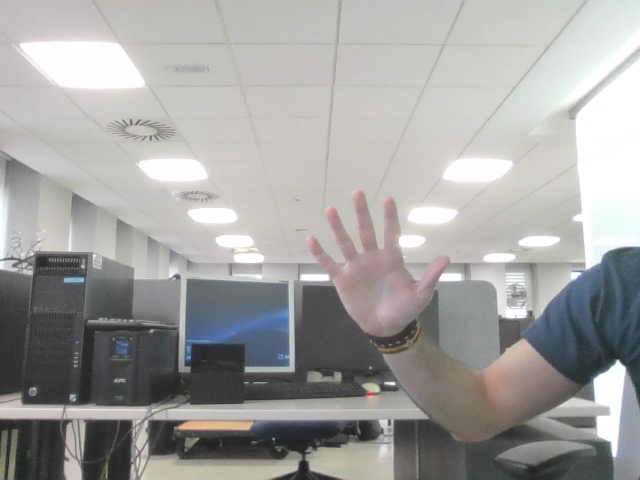Mano Abierta: (318, 201, 436, 308)
